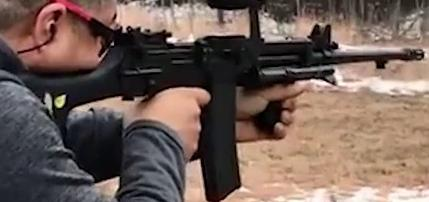gun: (1, 0, 429, 202)
